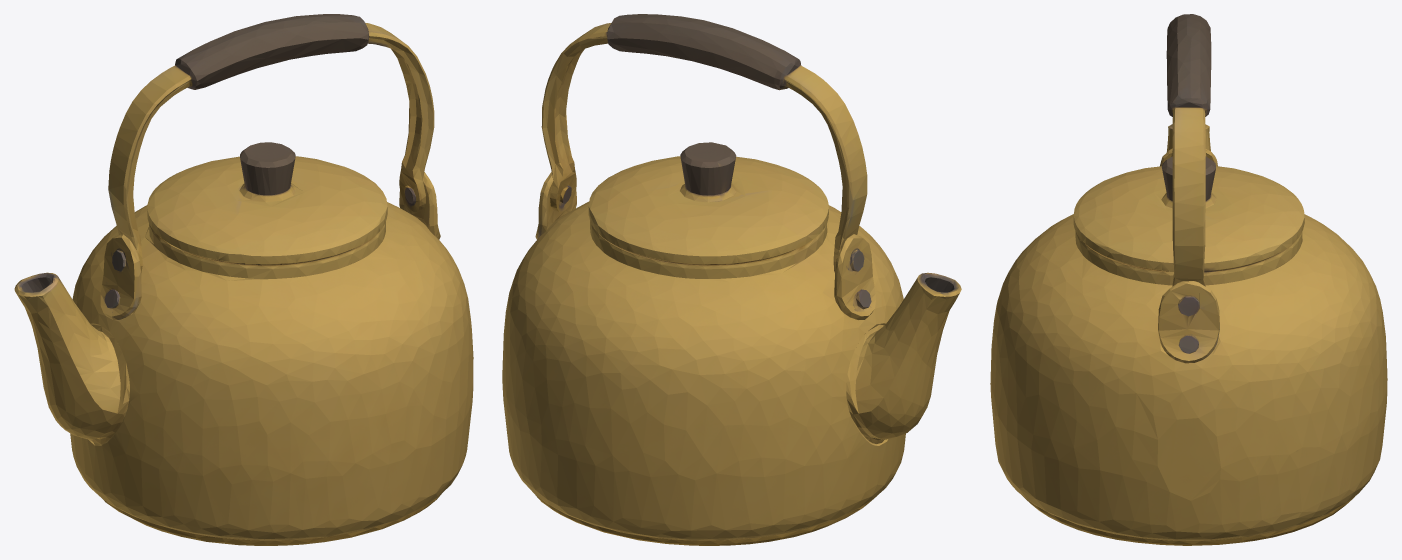
File: yangeun_kettle.glb
3 renders of one model, left to right at view 1: azimuth 30°, elevation 25°; view 2: azimuth 150°, elevation 25°; view 3: azimuth 270°, elevation 25°, orthographic. The views are drawn at different scales.
Visible parts, largest first — view 1: yangeun_kettle; view 2: yangeun_kettle; view 3: yangeun_kettle.
Part boxes in pixels (box(x1,y1,x2,y2)): yangeun_kettle: box(14, 14, 473, 545); yangeun_kettle: box(502, 14, 961, 545); yangeun_kettle: box(990, 14, 1387, 545).
Bounding box in the file's own units: 0.22 × 0.2183 × 0.182.
1 material, 1 textured.
